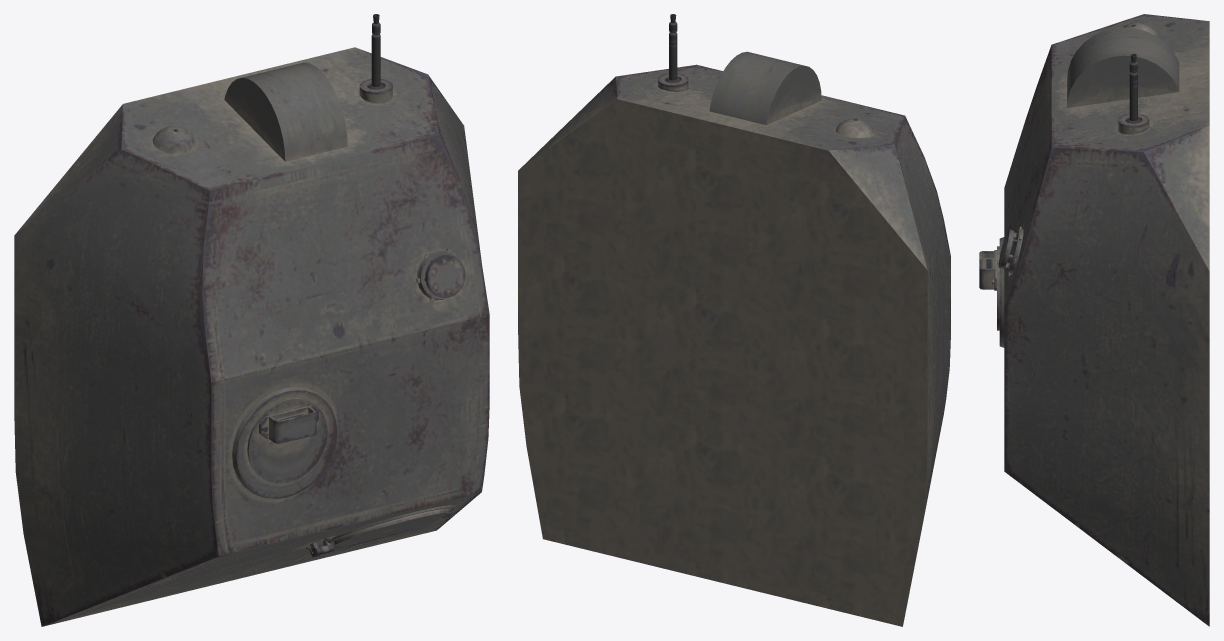
Rendered from Turret_01.glb.
3 views of the same model, side by side, from view 1: azimuth 30°, elevation 25°; view 2: azimuth 150°, elevation 25°; view 3: azimuth 270°, elevation 25° (orthographic). The views are drawn at different scales.
Visible parts, largest first — view 1: set_0_group_0; view 2: set_0_group_0; view 3: set_0_group_0.
Part boxes in pixels (x1,y1,x2,y2): set_0_group_0: (14, 14, 489, 626); set_0_group_0: (518, 14, 950, 626); set_0_group_0: (979, 14, 1209, 626).
Bounding box in the file's own units: 2.16 × 2.61 × 1.04.
1 material, 1 textured.
